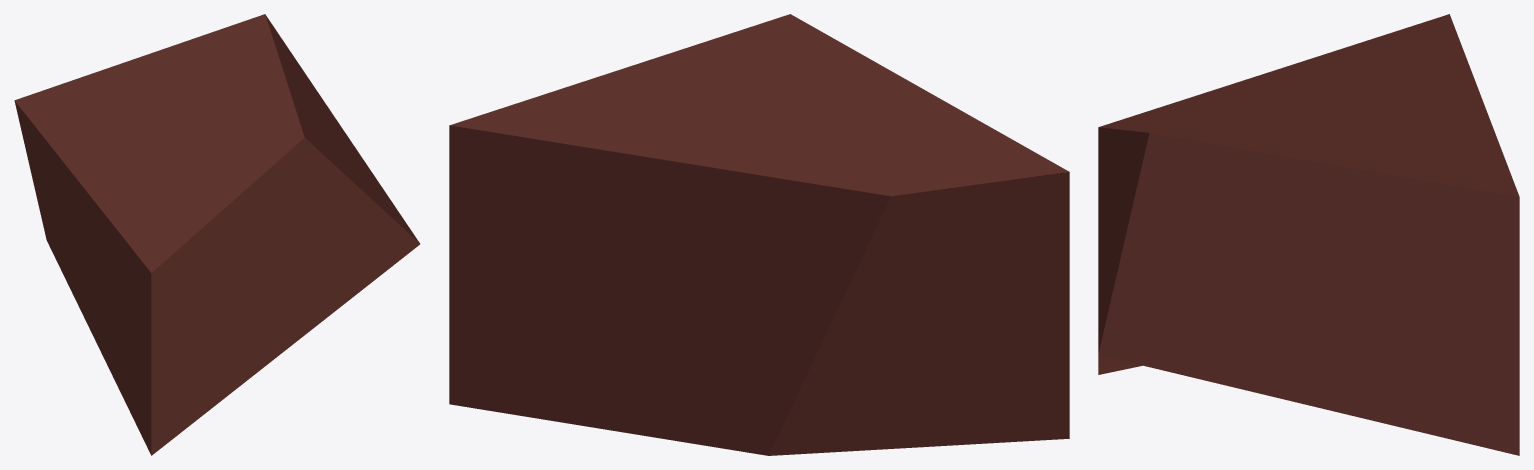
Rendered from DirtParticle.fbx.
3 views of the same model, side by side, from view 1: azimuth 30°, elevation 25°; view 2: azimuth 150°, elevation 25°; view 3: azimuth 270°, elevation 25° (orthographic). The views are drawn at different scales.
Parts seen in each view (by area): view 1: DirtPacticle; view 2: DirtPacticle; view 3: DirtPacticle.
Boxes of the visible parts, <box> form: DirtPacticle: <box>14,14,420,455</box>; DirtPacticle: <box>449,14,1069,455</box>; DirtPacticle: <box>1098,14,1519,455</box>.
Bounding box in the file's own units: 0.1404 × 0.1274 × 0.1366.
